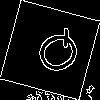Q: (25, 25, 86, 83)
